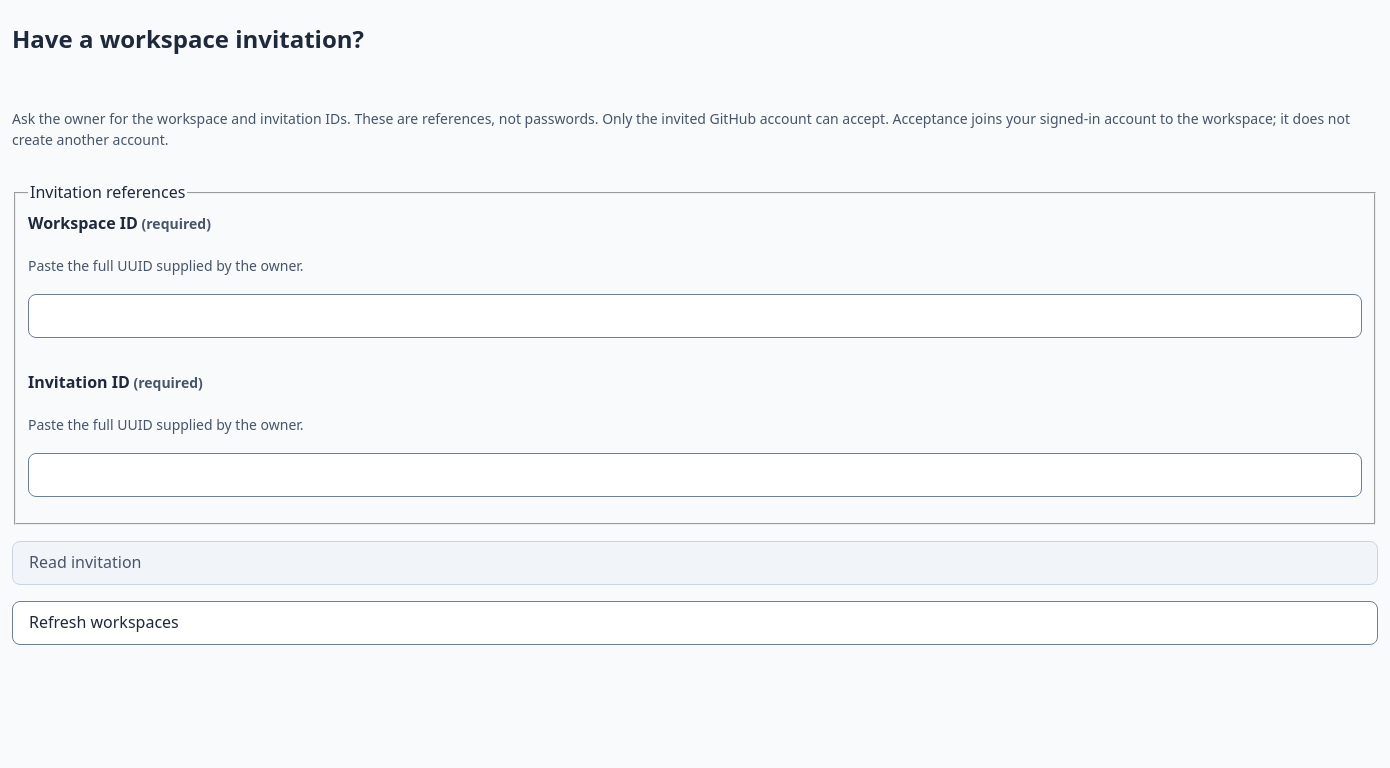
Test: does not offer acceptance for another reference or a terminal offer
Type "11111111-1111-4111-8111-111111111111" into the field labelled "Workspace ID (required)" at (695, 316), box [28,294,1362,338]
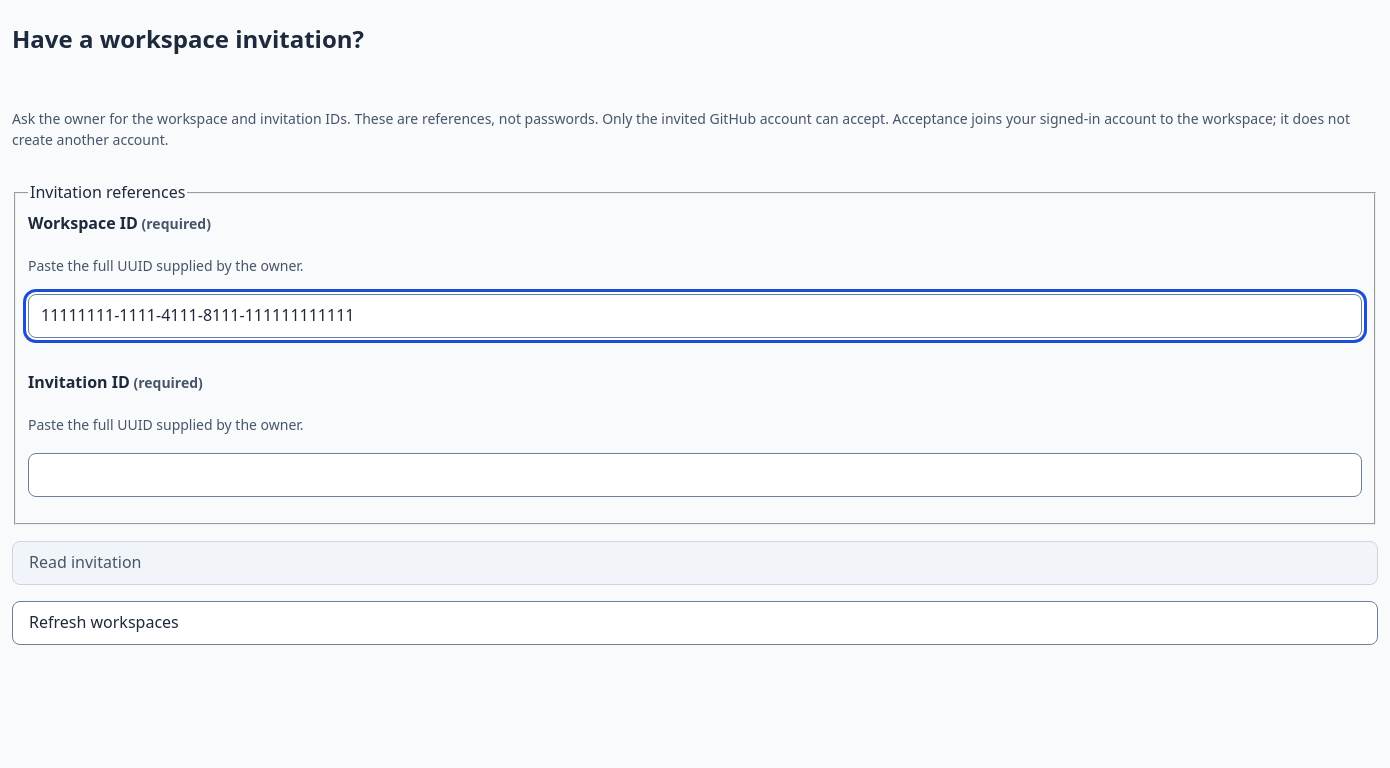
Type "22222222-2222-4222-8222-222222222222" into the field labelled "Invitation ID (required)" at (695, 475), box [28,453,1362,497]
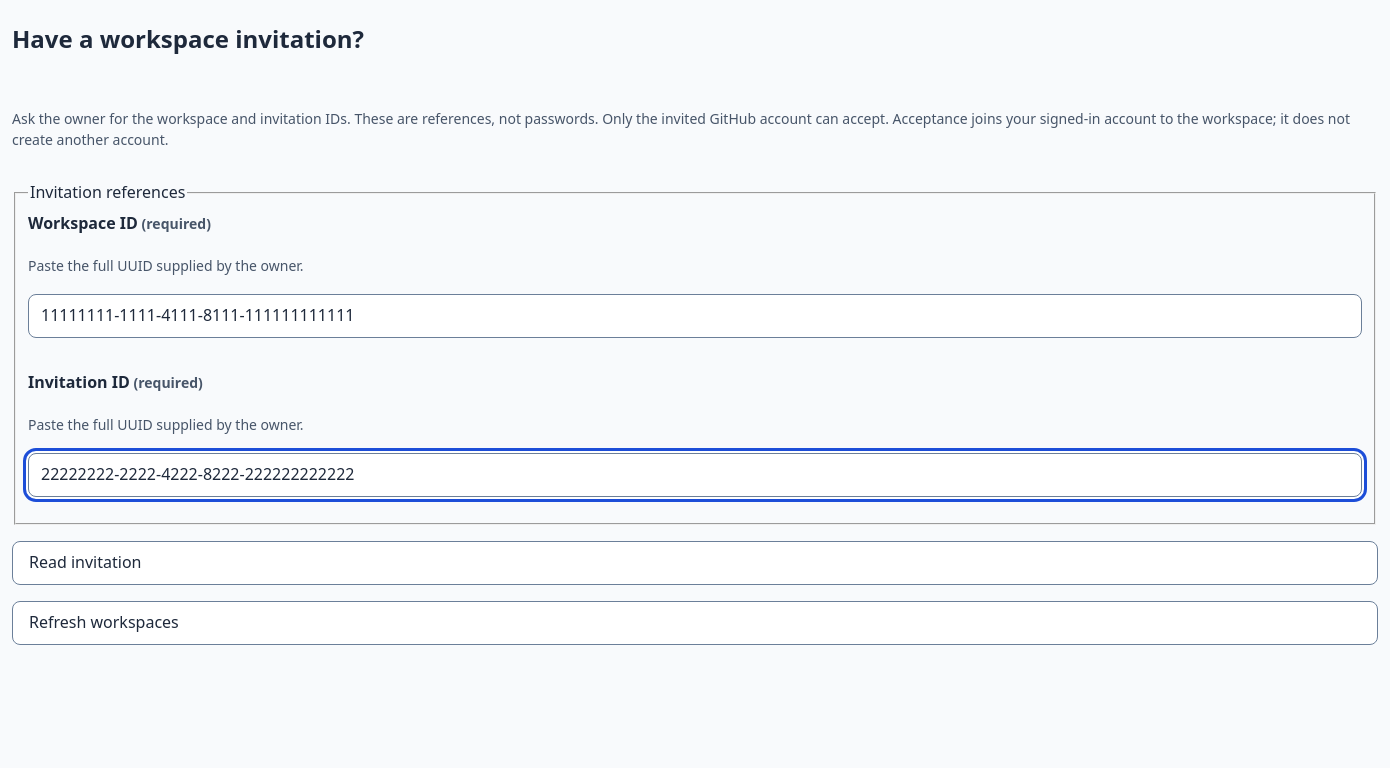
Click the button "Read invitation" at (85, 562), box [12,541,1378,585]
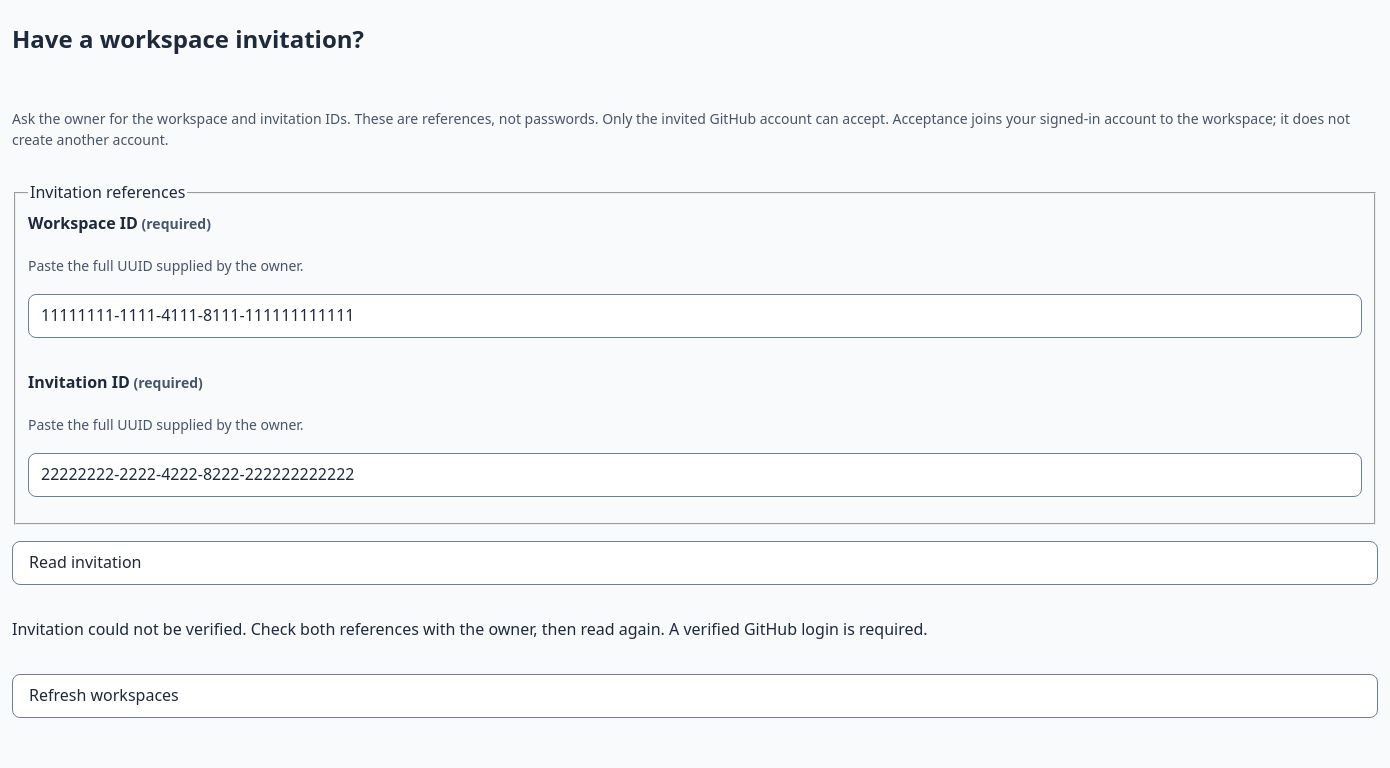
expect the message shows "could not be verified": met, box [12,618,928,640]
